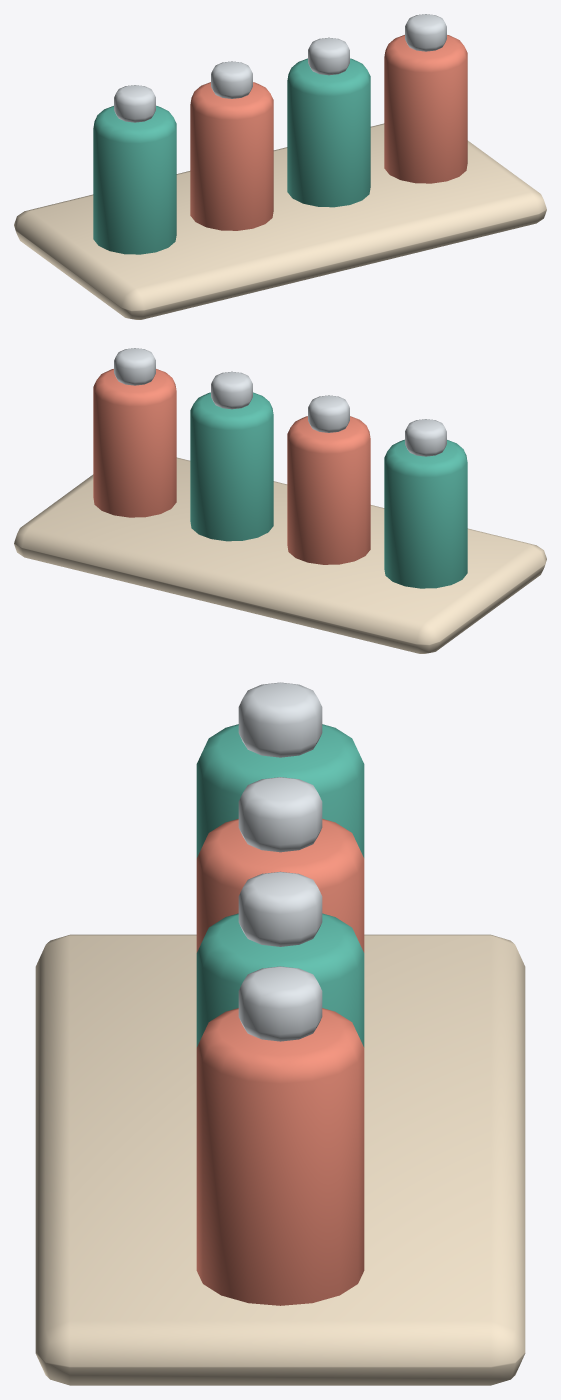
The model's file is batteries_a.glb.
The picture shows the model from 3 angles, top to bottom: view 1: azimuth 30°, elevation 25°; view 2: azimuth 150°, elevation 25°; view 3: azimuth 270°, elevation 25°; orthographic projection. The views are drawn at different scales.
Visible parts, largest first — view 1: body; view 2: body; view 3: body.
Part boxes in pixels (box(x1,y1,x2,y2)): body: box(14, 14, 546, 319); body: box(14, 348, 546, 653); body: box(35, 682, 525, 1385).
Size of the model in its own units: 0.14 by 0.056 by 0.07.
